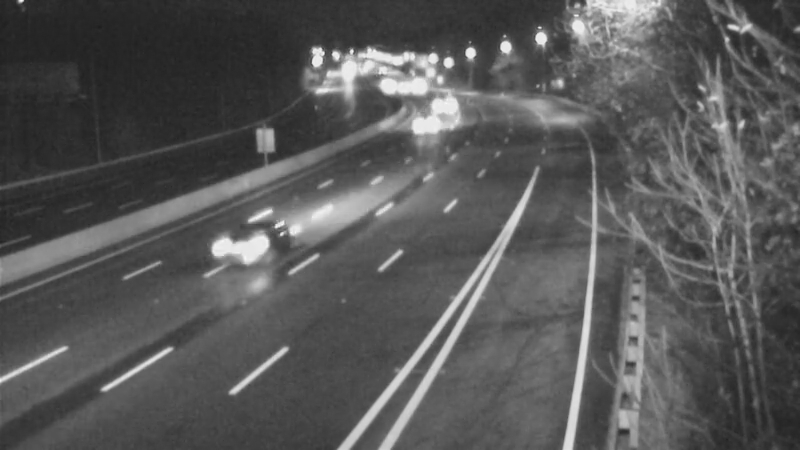vehicle: (198, 208, 278, 288), (364, 64, 414, 114), (396, 61, 446, 111), (378, 65, 428, 115), (418, 76, 468, 126), (397, 99, 447, 149)
